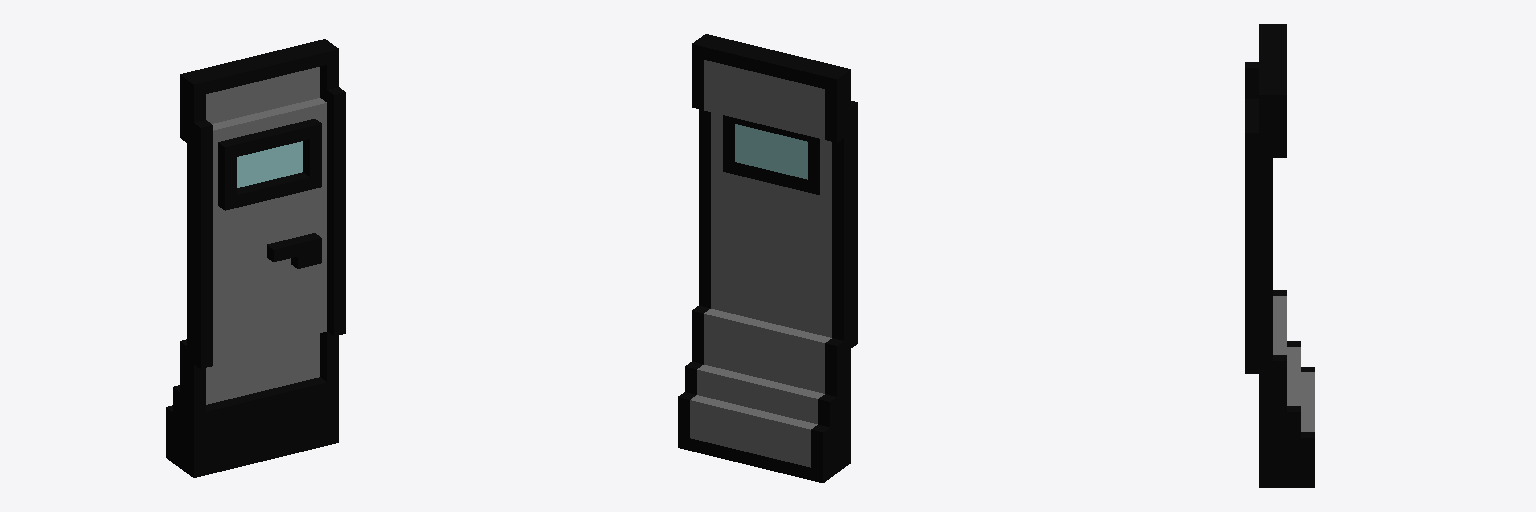
The picture shows the model from 3 angles: view 1: azimuth 30°, elevation 25°; view 2: azimuth 150°, elevation 25°; view 3: azimuth 270°, elevation 25°; orthographic projection.
Parts seen in each view (by area): view 1: object 1; view 2: object 1; view 3: object 1.
Part boxes in pixels (bbox=[...]): object 1: bbox=[166, 39, 345, 477]; object 1: bbox=[678, 34, 857, 482]; object 1: bbox=[1245, 24, 1314, 487].
Bounding box in the file's own units: 1.2 × 3.1 × 0.5.
Materials: 1 (1 with a texture image).